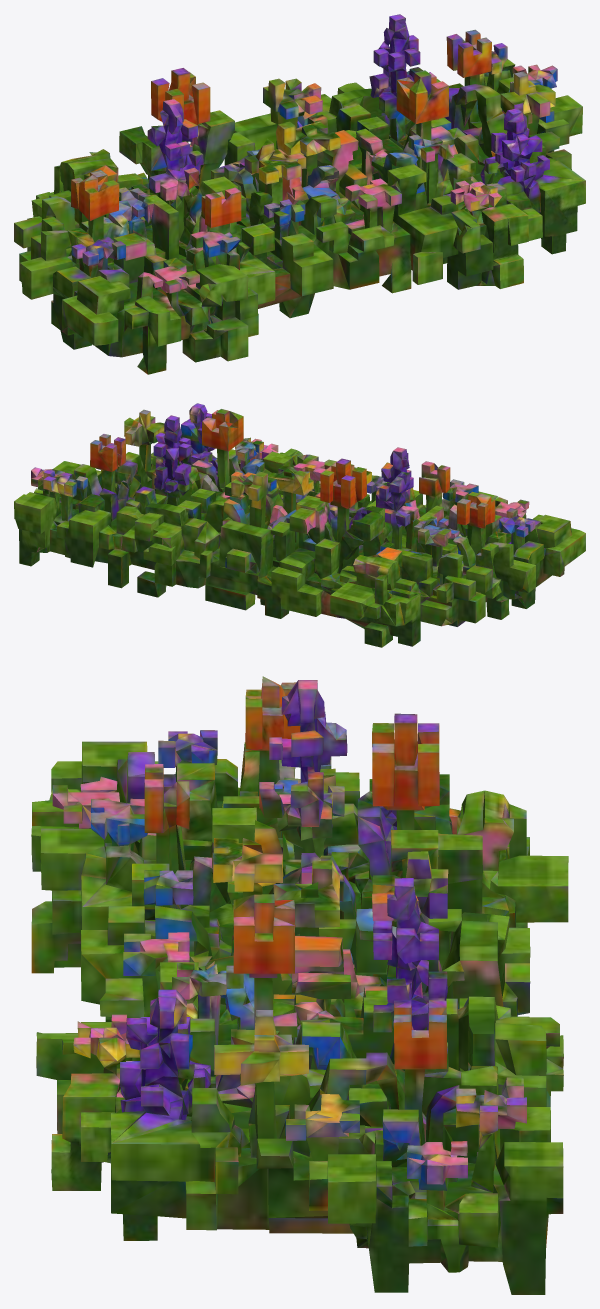
Rendered from voxel-bloom-garden-mobile.glb.
The picture shows the model from 3 angles, top to bottom: view 1: azimuth 30°, elevation 25°; view 2: azimuth 150°, elevation 25°; view 3: azimuth 270°, elevation 25°; orthographic projection. The views are drawn at different scales.
Parts seen in each view (by area): view 1: output_unwrapped; view 2: output_unwrapped; view 3: output_unwrapped.
Part boxes in pixels (box(x1,y1,x2,y2)): output_unwrapped: box(14, 14, 585, 374); output_unwrapped: box(14, 403, 585, 647); output_unwrapped: box(31, 676, 568, 1294).
Bounding box in the file's own units: 1.9 × 0.5851 × 0.9561.
1 material, 1 textured.
